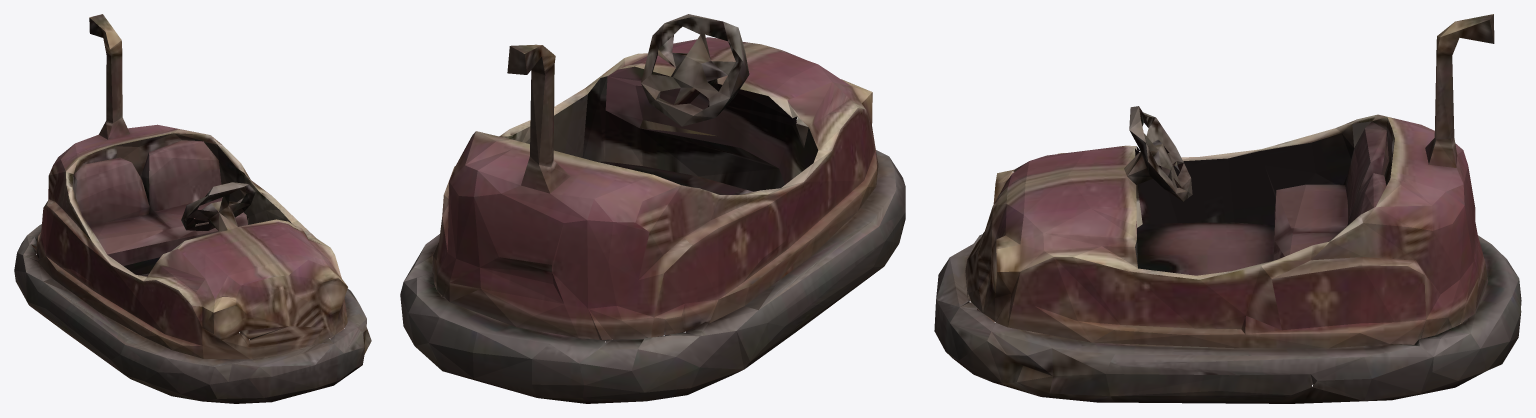
The model's file is park_bumper_car_1117.glb.
The picture shows the model from 3 angles, left to right: view 1: azimuth 30°, elevation 25°; view 2: azimuth 150°, elevation 25°; view 3: azimuth 270°, elevation 25°; orthographic projection. The views are drawn at different scales.
Visible parts, largest first — view 1: world; view 2: world; view 3: world.
Boxes of the visible parts, x1=… form: world: x1=14, y1=14, x2=371, y2=403; world: x1=400, y1=14, x2=905, y2=403; world: x1=934, y1=14, x2=1521, y2=403.
Size of the model in its own units: 1.05 by 1 by 1.67.
1 material, 1 textured.
